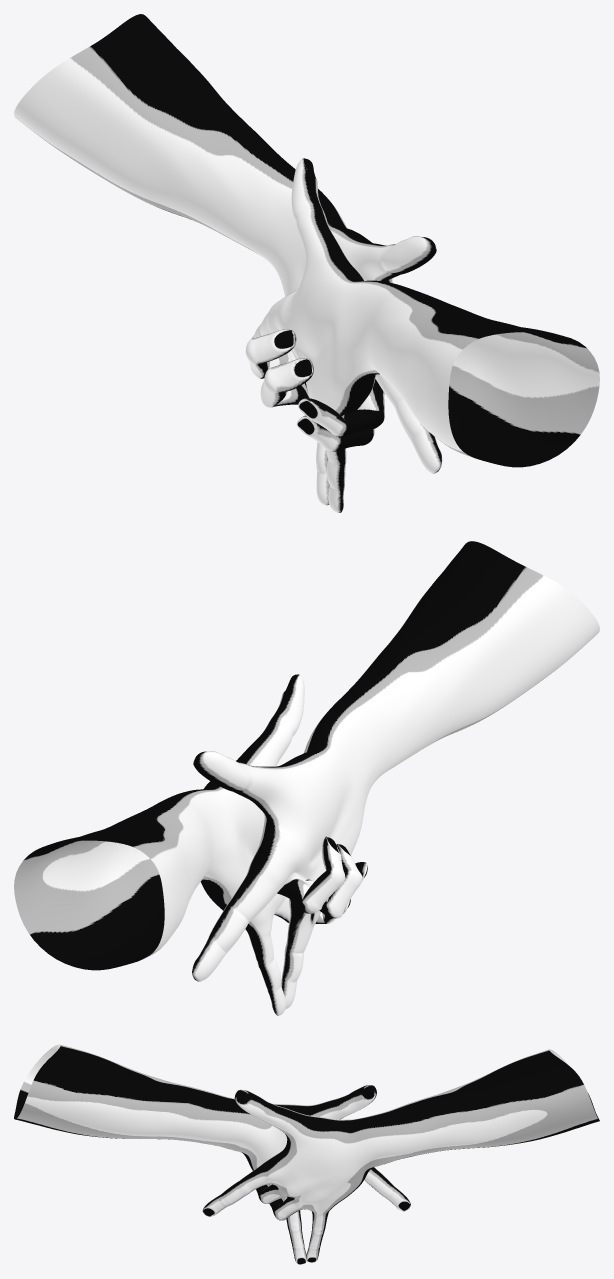
The model's file is satanhands.gltf.
3 views of the same model, one above another, from view 1: azimuth 30°, elevation 25°; view 2: azimuth 150°, elevation 25°; view 3: azimuth 270°, elevation 25° (orthographic). The views are drawn at different scales.
Parts seen in each view (by area): view 1: human_male_base03.001; view 2: human_male_base03.001; view 3: human_male_base03.001.
Part boxes in pixels (x1,y1,x2,y2): human_male_base03.001: [14, 14, 599, 512]; human_male_base03.001: [14, 541, 599, 1015]; human_male_base03.001: [14, 1044, 599, 1264].
Size of the model in its own units: 1.19 by 2.22 by 5.8.
Materials: 2 (2 with a texture image).
